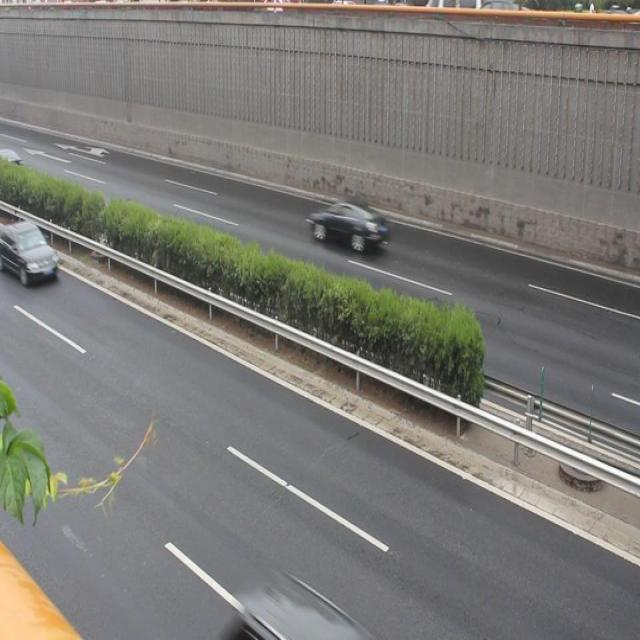car: (308, 187, 383, 260), (1, 214, 58, 287)
